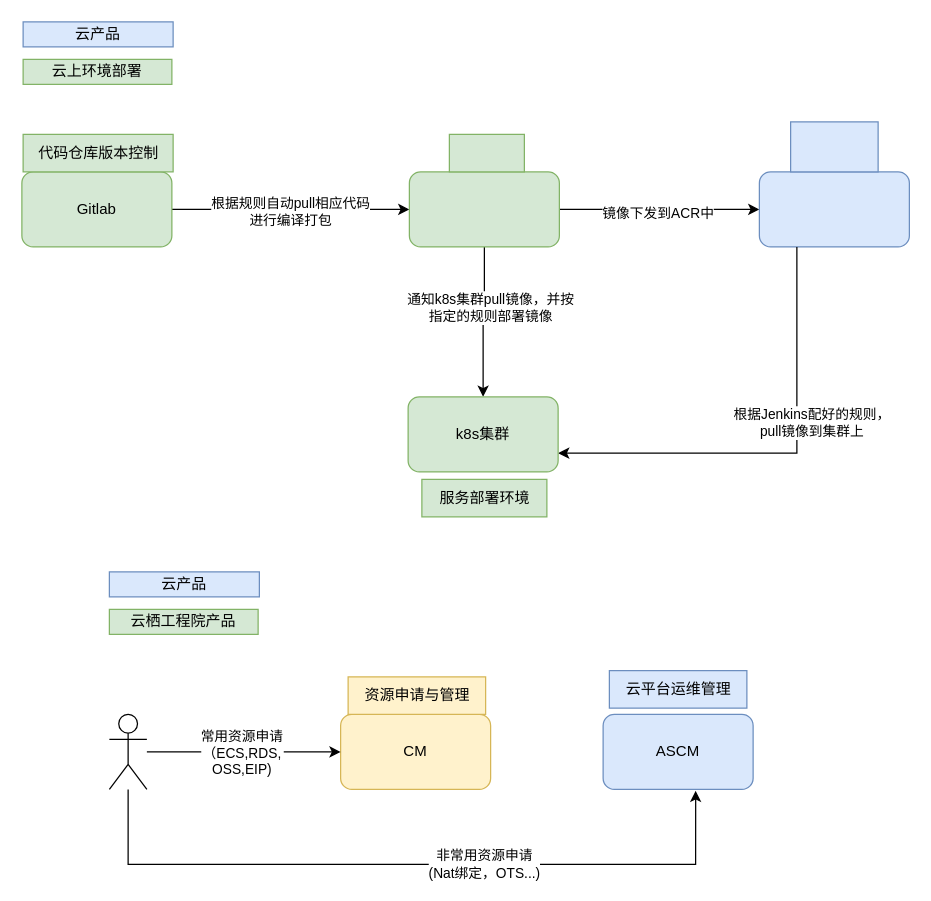
Some shapes in this 931 by 901 pixel diagram are drawn without their labels. The centre of each missing label's shape, as x and y in pixels:
ACR: the point at 833,209
Actor: the point at 127,751
CI/CD: the point at 486,152
Jenkins: the point at 483,209
云环境： 镜像仓库: the point at 833,146
